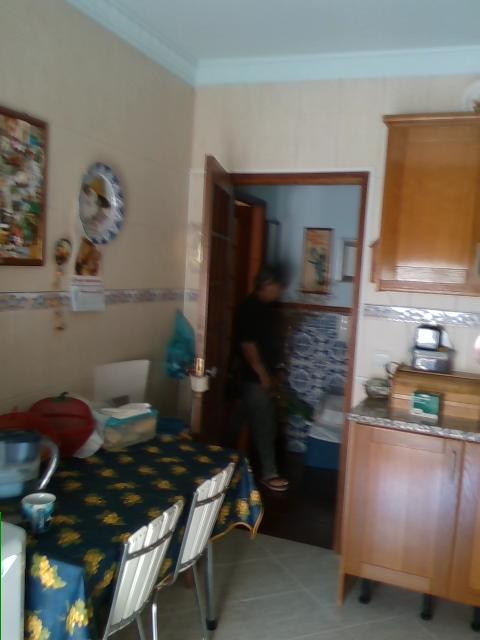door: (187, 155, 231, 435)
